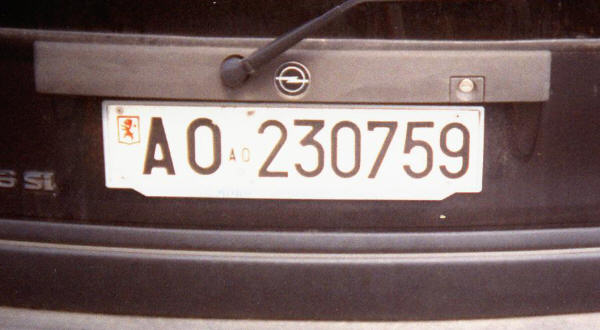license_plate: (102, 100, 484, 198)
